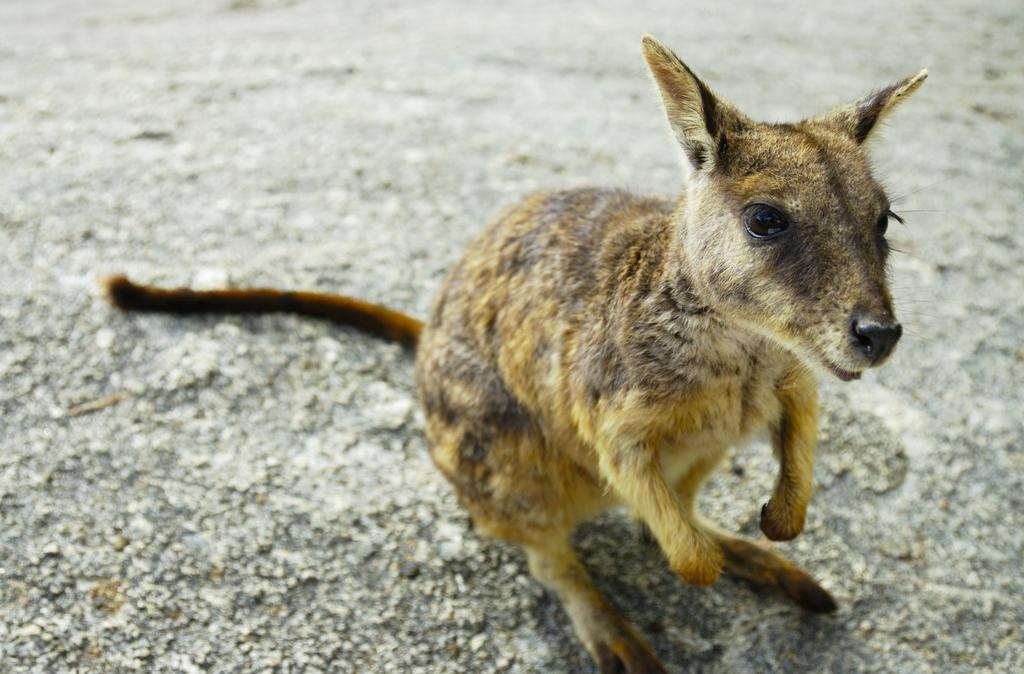kangaroo: (106, 35, 928, 674)
